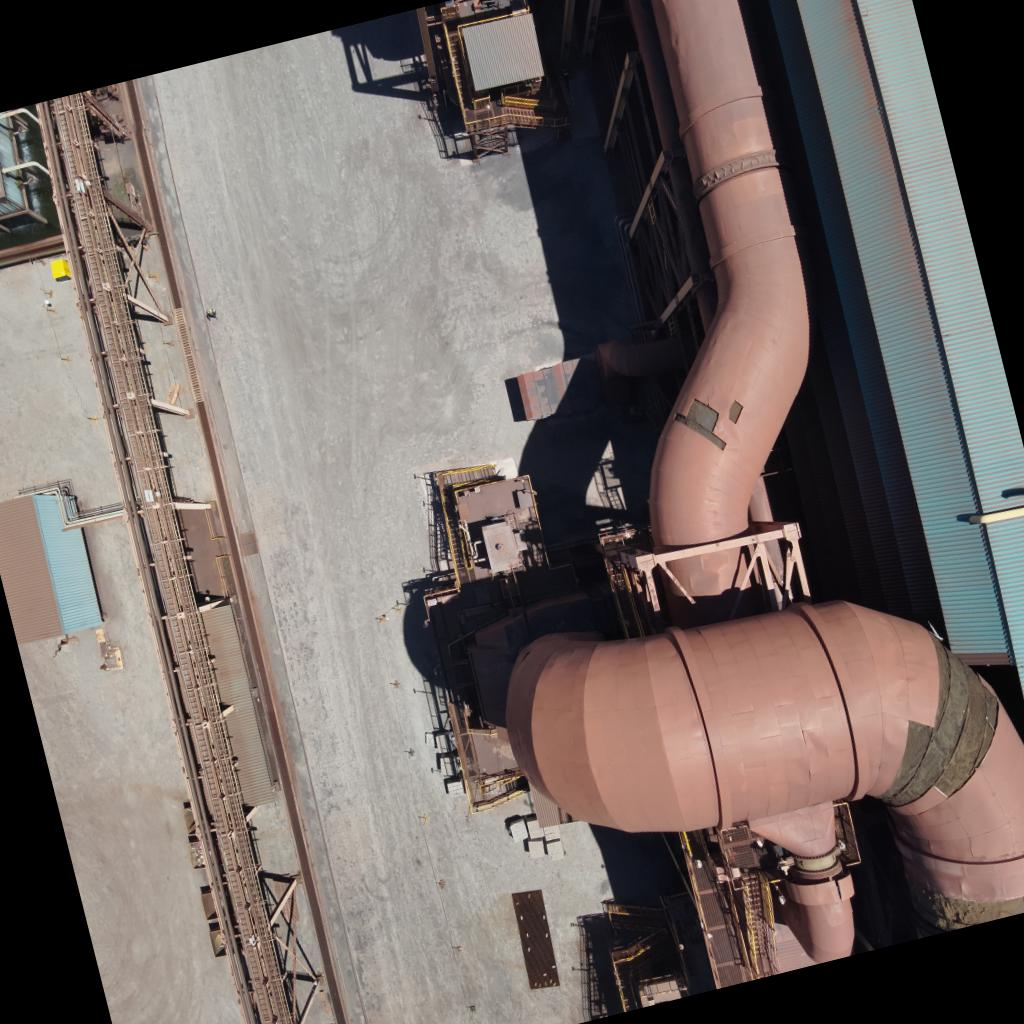Failures: (850, 640, 1018, 812), (903, 867, 1024, 938), (666, 394, 732, 458), (724, 397, 747, 425)
